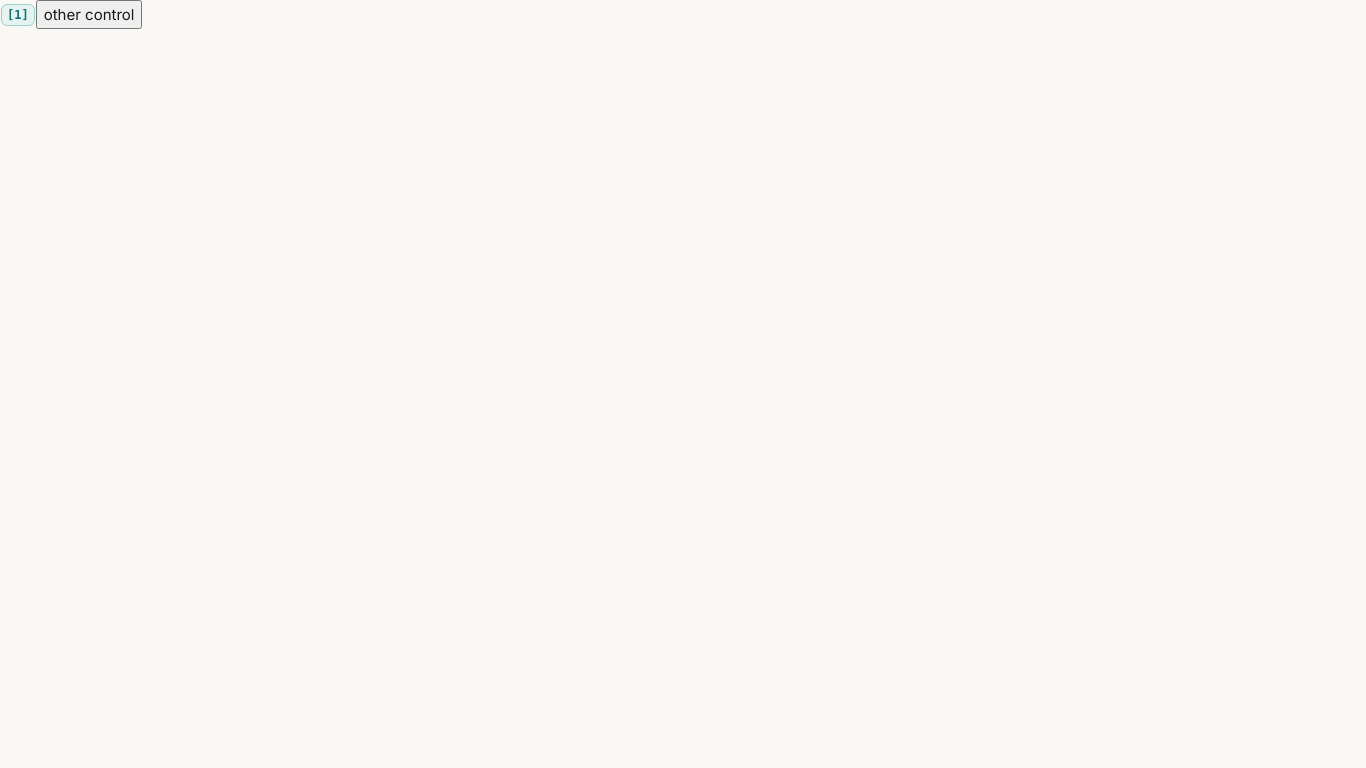
Test: CitationChip -> SourceDrawer › shows the passage without a highlight when the quote is not in it
The image size is (1366, 768).
What coordinates should you click on to do the following:
click the button named "Source 1"
I would click on:
 (18, 15)
Its box is [1, 4, 35, 26].
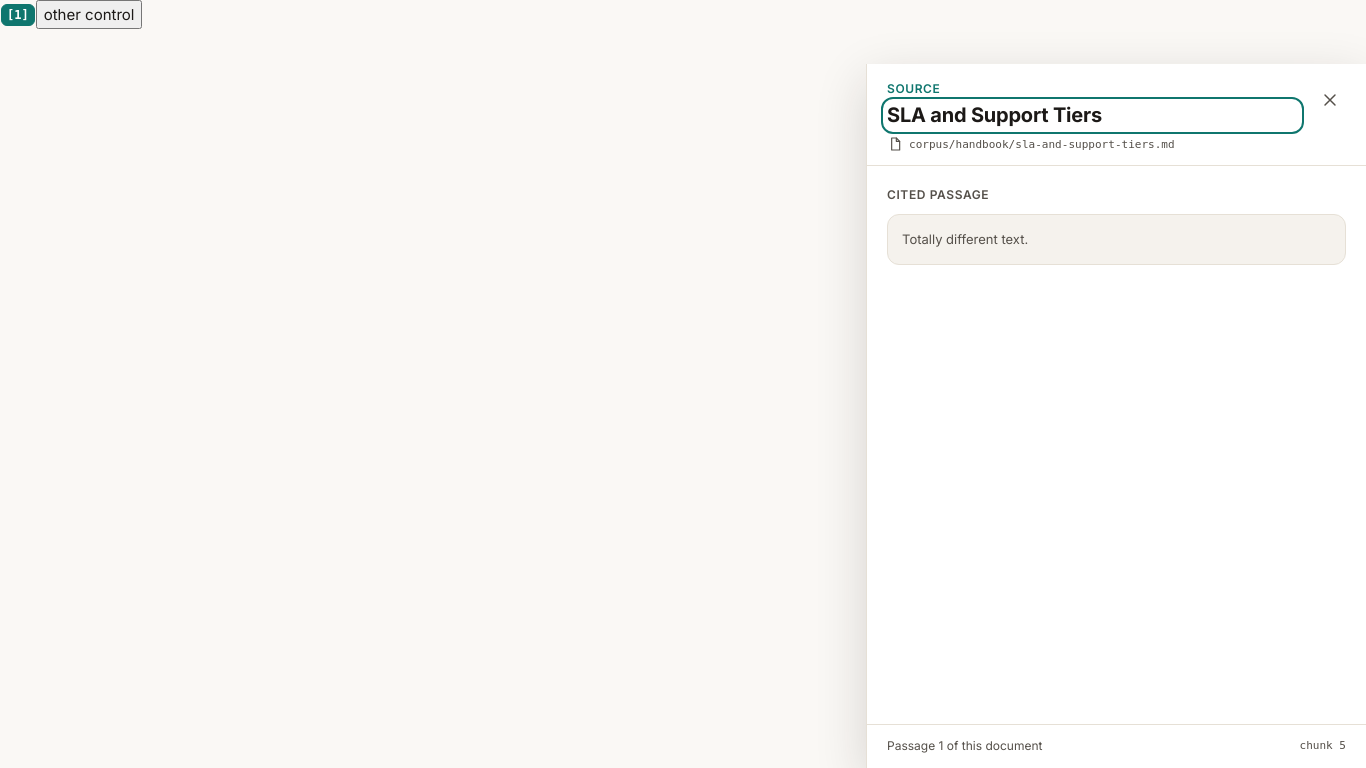
Check: the text "Totally different text." is shown, box [902, 231, 1028, 247]
